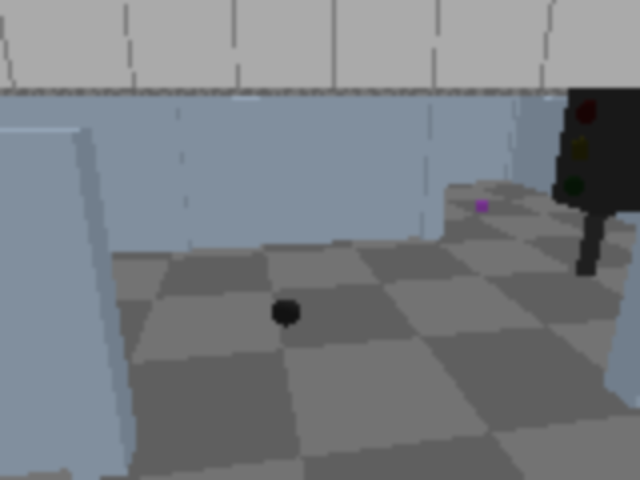puck: (266, 292, 305, 334)
traffic_light: (541, 76, 638, 288)
